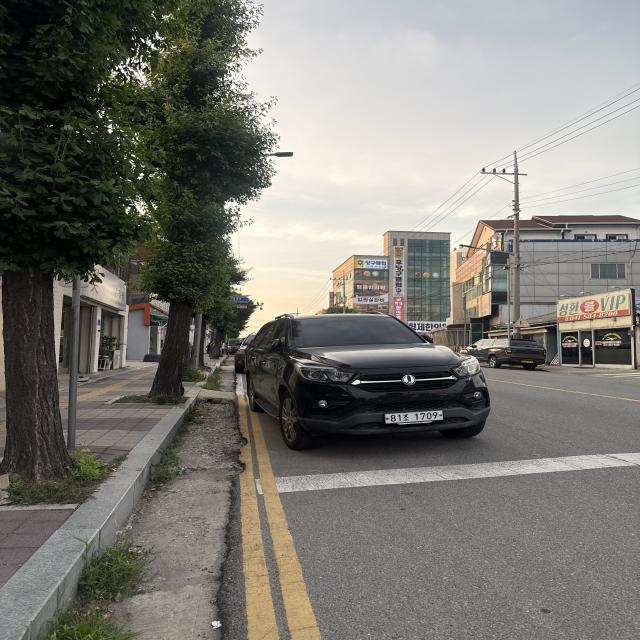car: (226, 306, 502, 451)
